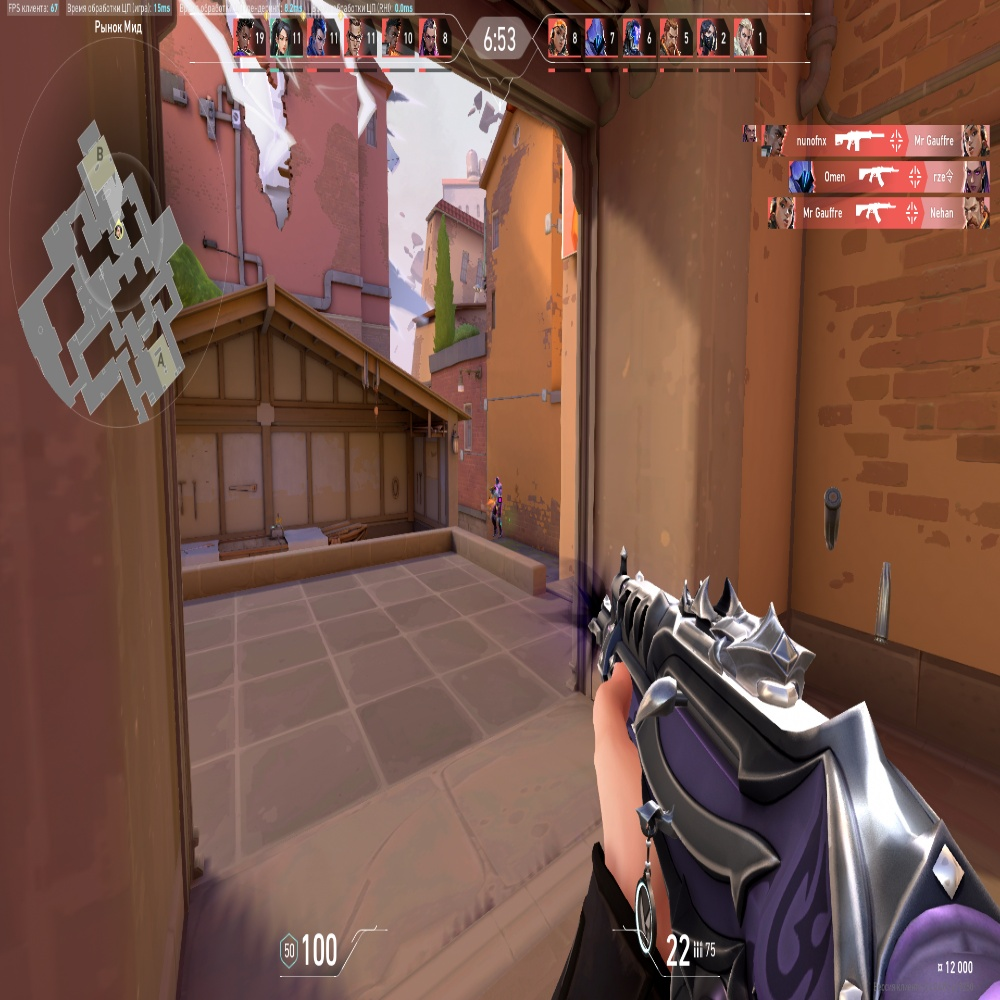body: (493, 486, 502, 506)
head: (494, 477, 500, 484)
